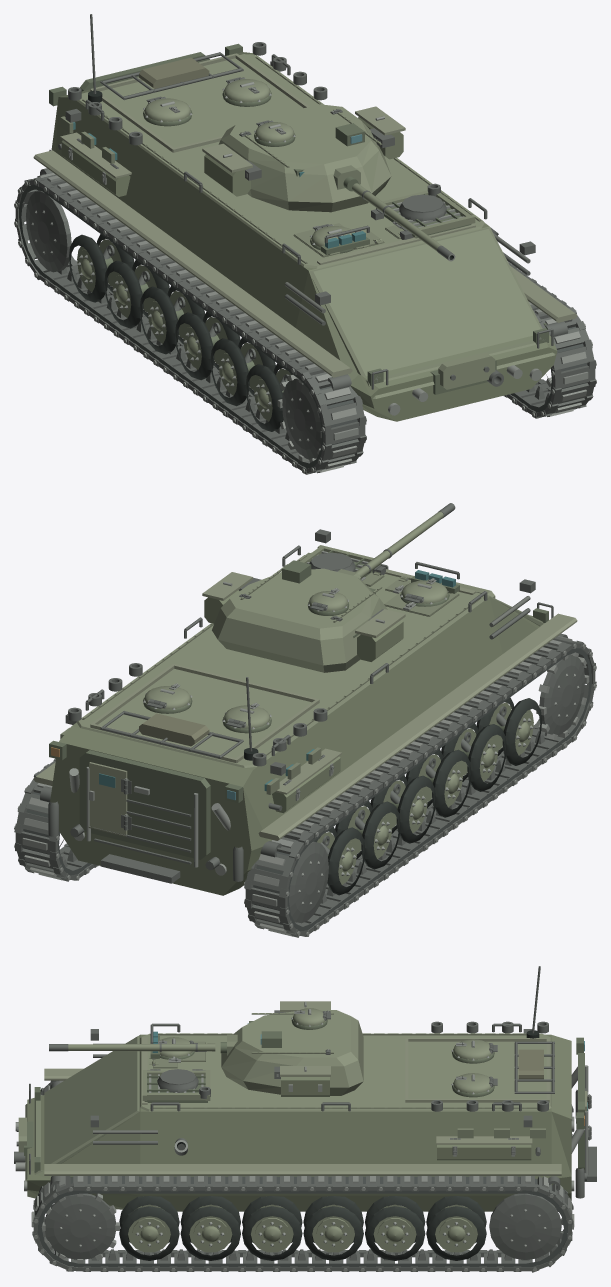
The model's file is spheres-ground-ifv.glb.
3 renders of one model, top to bottom at view 1: azimuth 30°, elevation 25°; view 2: azimuth 150°, elevation 25°; view 3: azimuth 270°, elevation 25°, orthographic. The views are drawn at different scales.
Parts seen in each view (by area): view 1: Spheres infantry fighting vehicle; view 2: Spheres infantry fighting vehicle; view 3: Spheres infantry fighting vehicle.
Part boxes in pixels (<box>): Spheres infantry fighting vehicle: <box>14,14,596,474</box>; Spheres infantry fighting vehicle: <box>14,503,596,937</box>; Spheres infantry fighting vehicle: <box>14,966,596,1272</box>.
Size of the model in its own units: 3.25 by 2.84 by 6.93.
